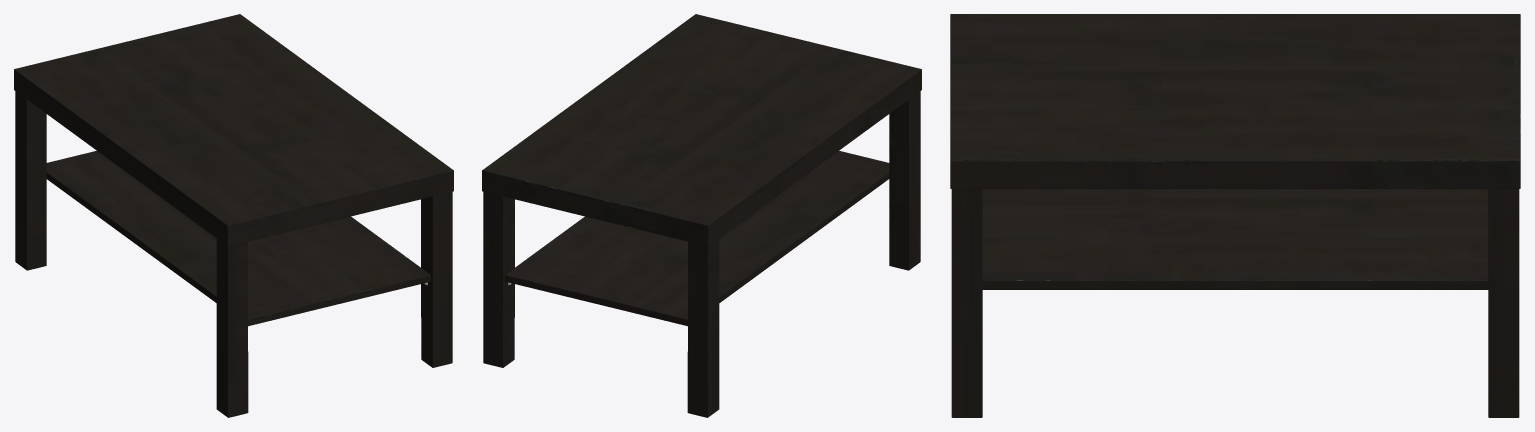
The picture shows the model from 3 angles, left to right: view 1: azimuth 30°, elevation 25°; view 2: azimuth 150°, elevation 25°; view 3: azimuth 270°, elevation 25°; orthographic projection. The views are drawn at different scales.
Parts seen in each view (by area): view 1: model; view 2: model; view 3: model.
Boxes of the visible parts, <box> form: model: <box>14,14,453,417</box>; model: <box>482,14,921,417</box>; model: <box>950,14,1520,417</box>.
Bounding box in the file's own units: 0.55 × 0.4489 × 0.9.
1 material, 1 textured.
